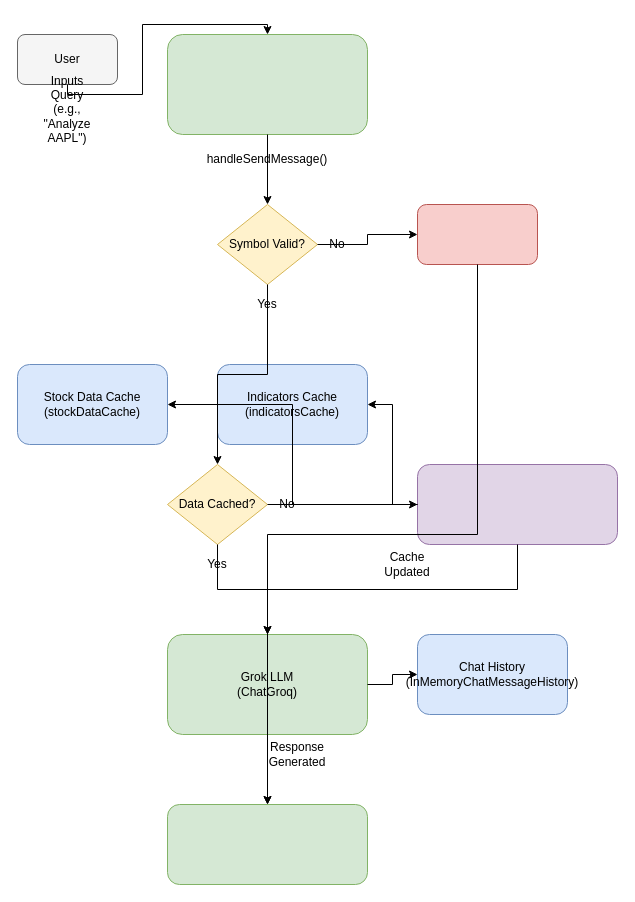
This 635x902 diagram has some shape labels left out. Each missing label, with the centre of its shape:
Error Message ("Provide US stock..."): (477,234)
React Frontend (StockAdvisor Component): (267,84)
Twelve Data API (fetchStockData, fetchIndicators): (517,504)
UI Update (Messages, ChatSessions): (267,844)
